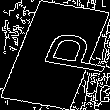P_W: (10, 31, 100, 79)
